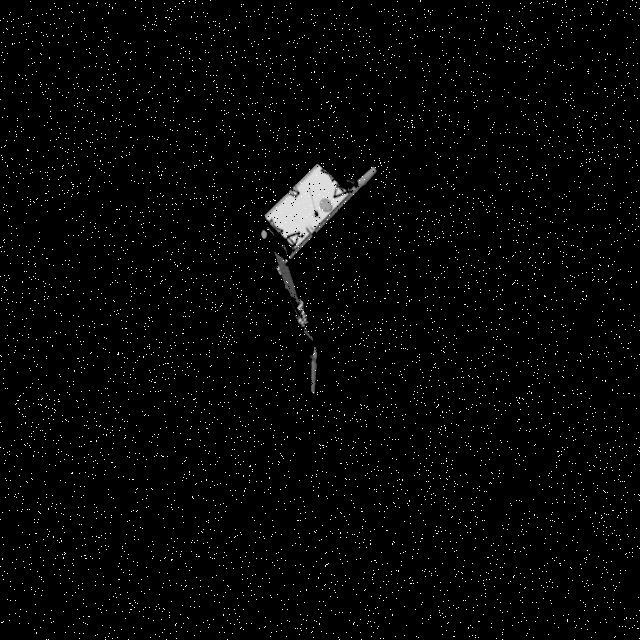medium_debris: (268, 144, 404, 406)
